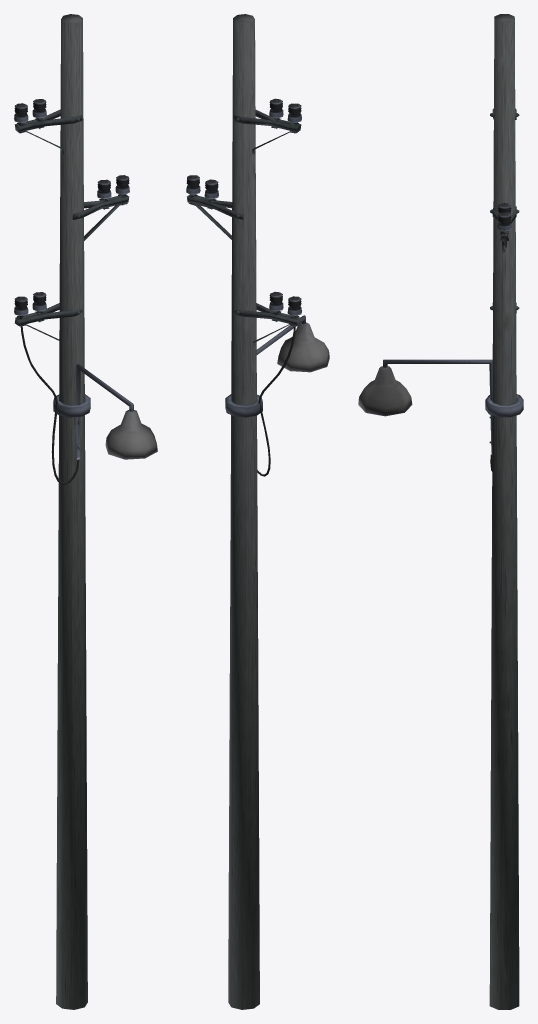
Rendered from pole_concrete_b_lod_1.glb.
3 renders of one model, left to right at view 1: azimuth 30°, elevation 25°; view 2: azimuth 150°, elevation 25°; view 3: azimuth 270°, elevation 25°, orthographic.
Parts seen in each view (by area): view 1: pole_concrete_b_lod_1; view 2: pole_concrete_b_lod_1; view 3: pole_concrete_b_lod_1.
Boxes of the visible parts, x1,y1,x2,y2 form: pole_concrete_b_lod_1: [14, 14, 157, 1009]; pole_concrete_b_lod_1: [186, 14, 329, 1009]; pole_concrete_b_lod_1: [358, 14, 523, 1009].
Bounding box in the file's own units: 1.24 × 10.2 × 1.55.
Materials: 2 (2 with a texture image).
